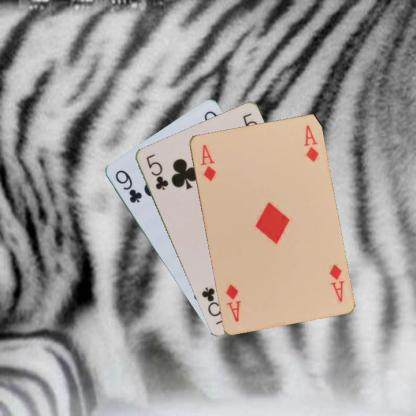5c: (143, 151, 169, 191)
9c: (112, 167, 143, 205)
Ad: (326, 262, 346, 303), (198, 141, 217, 183)
